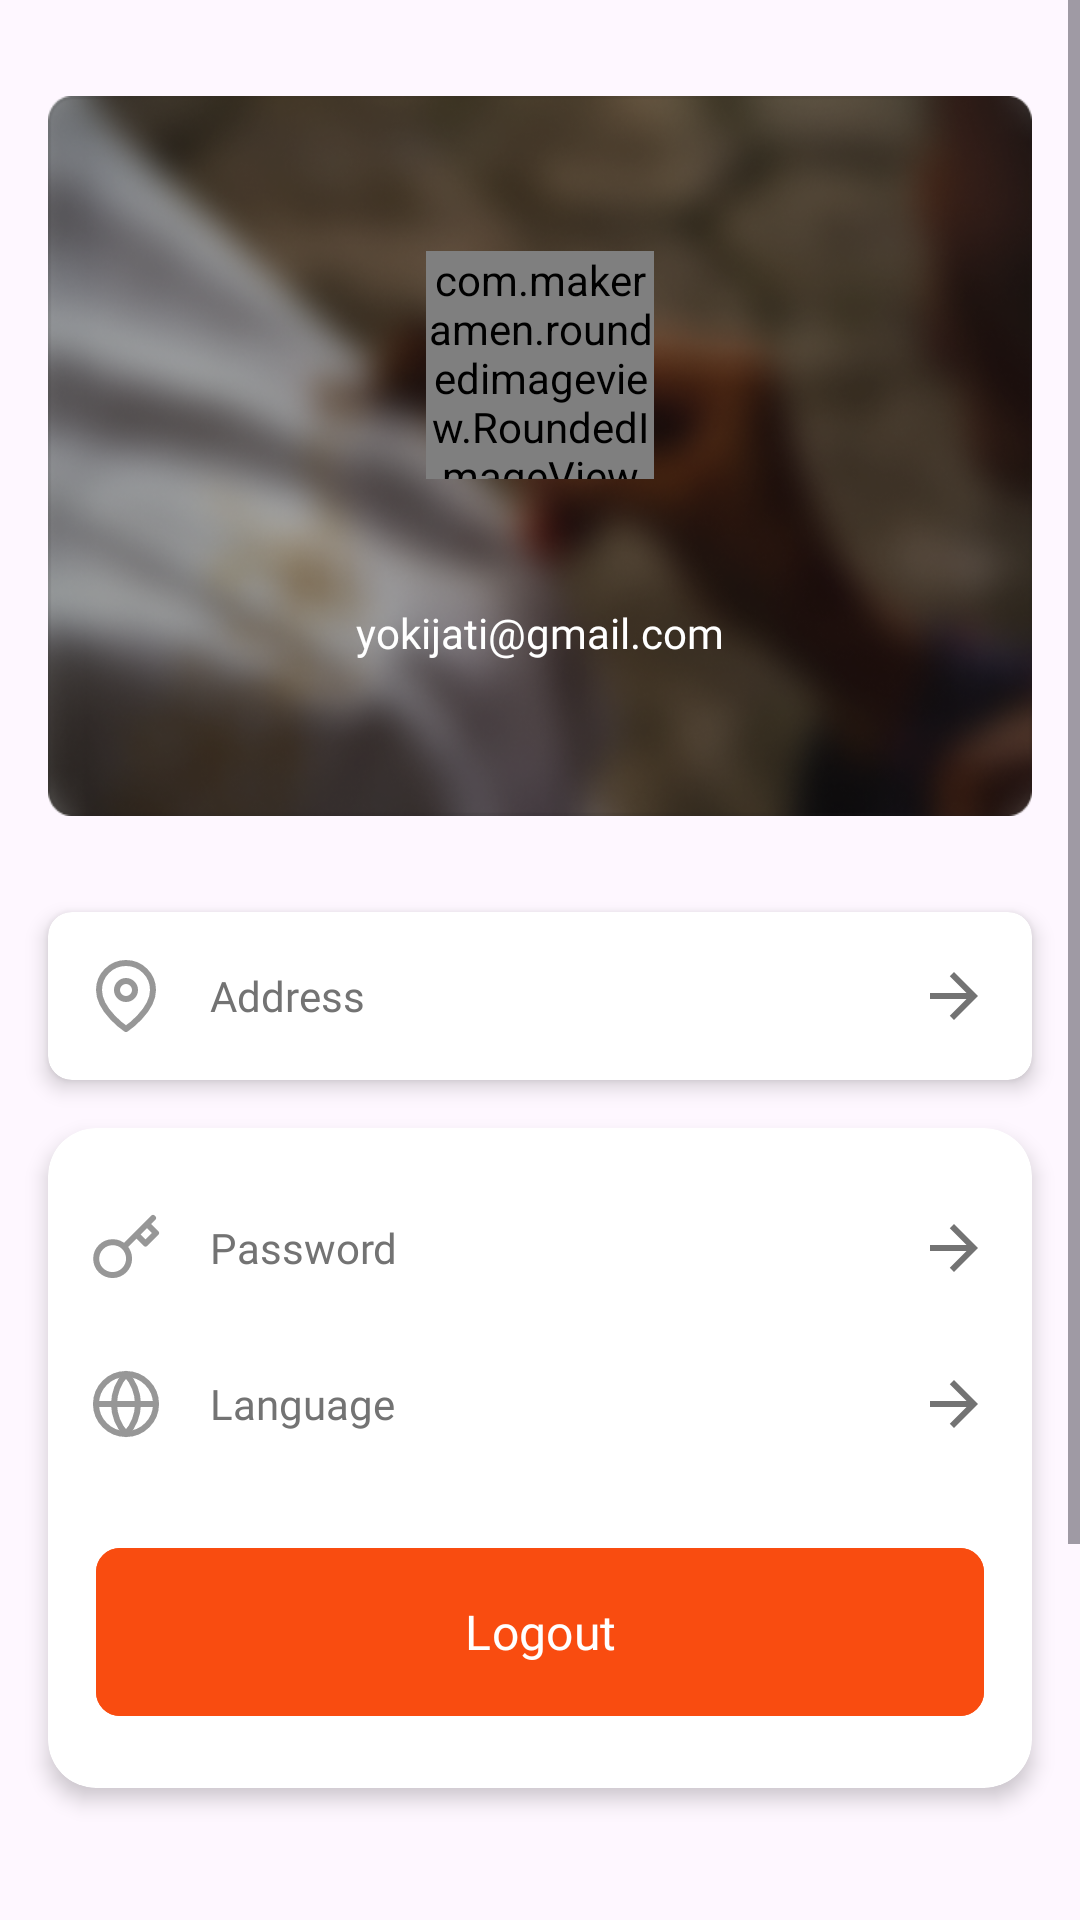

Named icons in this screenshot (1080 x 1920) and their bounding boxes, (left=x1, top=y1, right=x2, bottom=y2):
globe: (left=93, top=1371, right=159, bottom=1437)
key: (left=93, top=1215, right=159, bottom=1278)
map pin: (left=96, top=960, right=156, bottom=1032)
